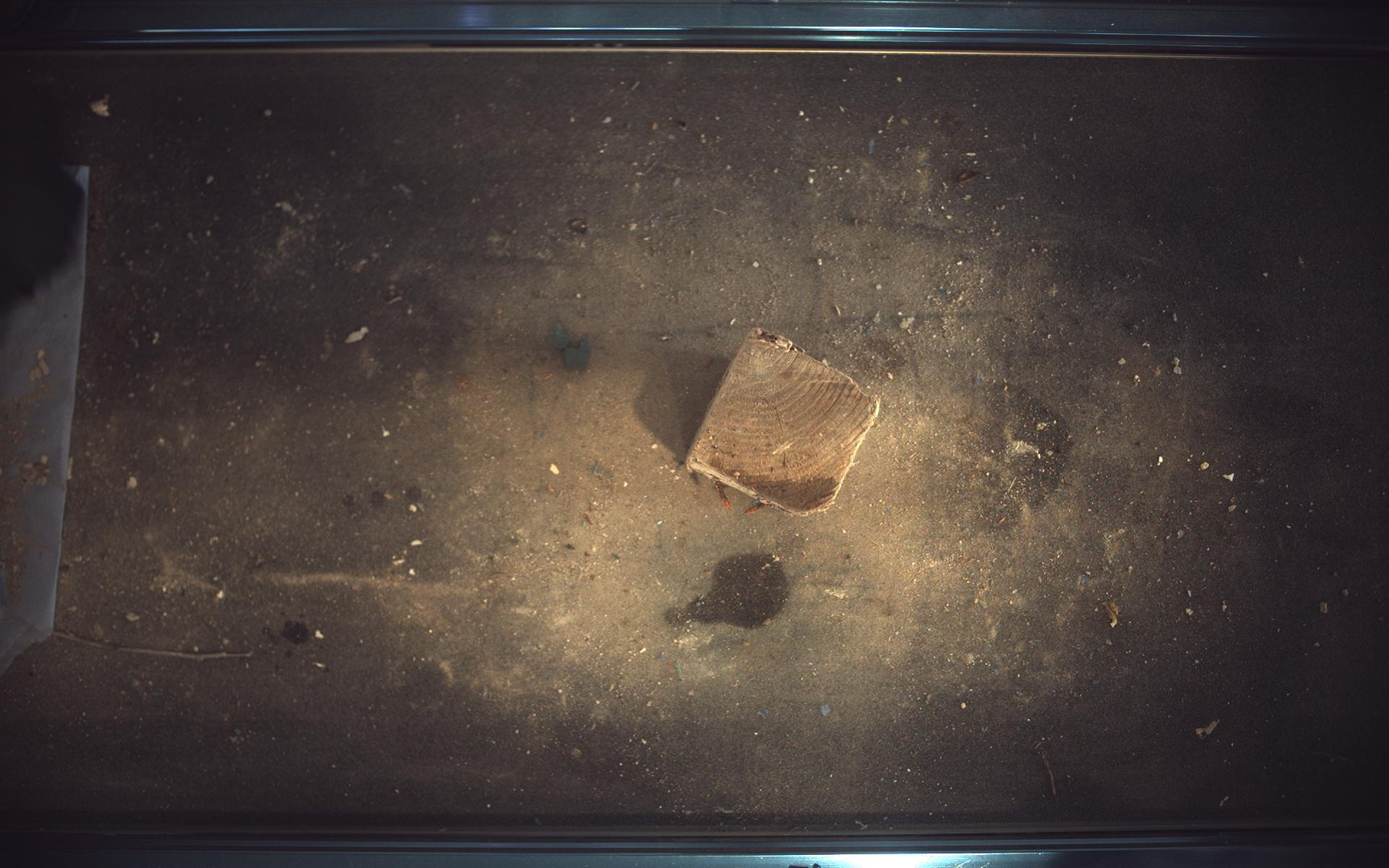wood: (687, 327, 881, 516)
